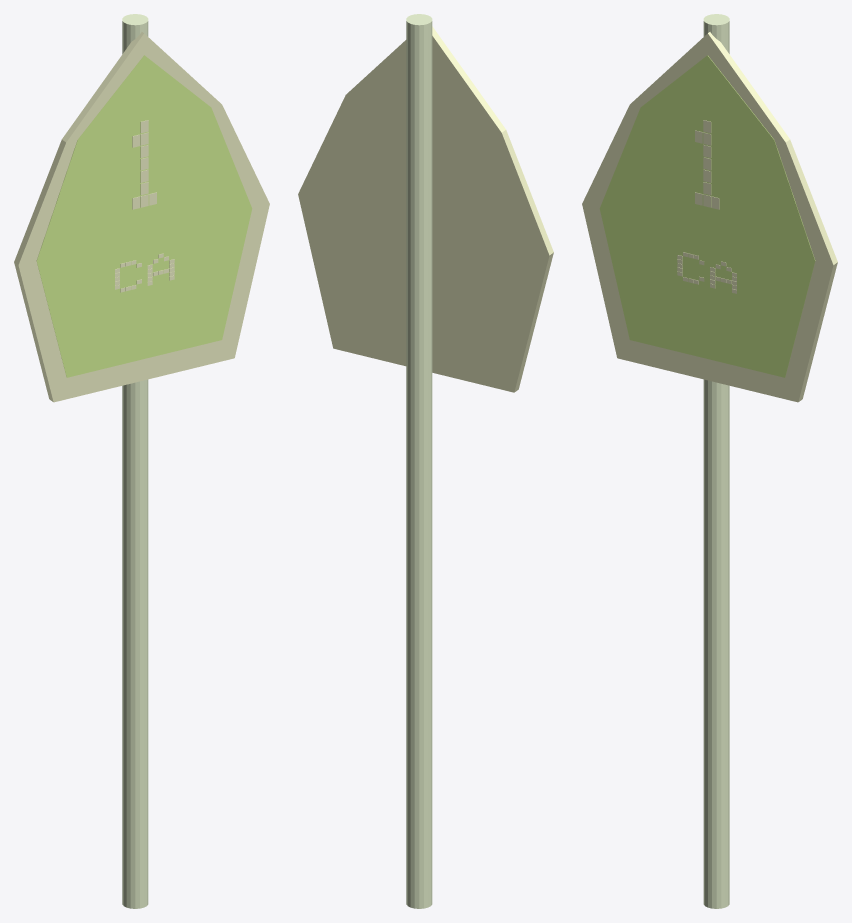
The model's file is sign_route_ca_1_shield.glb.
3 renders of one model, left to right at view 1: azimuth 30°, elevation 25°; view 2: azimuth 150°, elevation 25°; view 3: azimuth 330°, elevation 25°, orthographic.
Parts seen in each view (by area): view 1: layer_1_00, plate_base_00, pole; view 2: plate_base_00, pole; view 3: layer_1_00, plate_base_00, pole.
Boxes of the visible parts, box(x1,y1,x2,y2) form: layer_1_00: box(36, 55, 252, 377); plate_base_00: box(14, 32, 269, 402); pole: box(122, 14, 148, 908); plate_base_00: box(298, 26, 553, 392); pole: box(406, 14, 432, 908); layer_1_00: box(599, 55, 815, 377); plate_base_00: box(582, 32, 837, 402); pole: box(703, 14, 729, 908).
Bounding box in the file's own units: 0.6552 × 2.2 × 0.0725.
